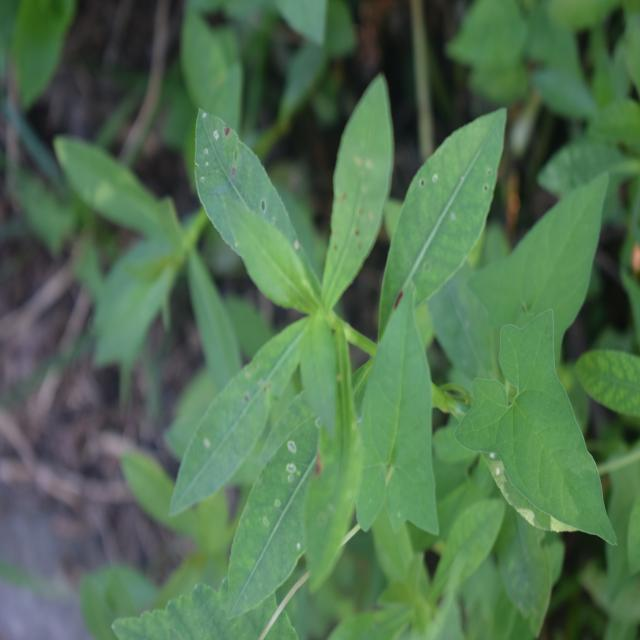Alligatorweed: (173, 73, 474, 565)
